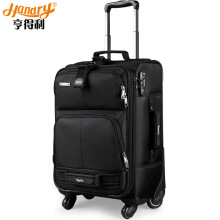luggage: (53, 1, 167, 218)
